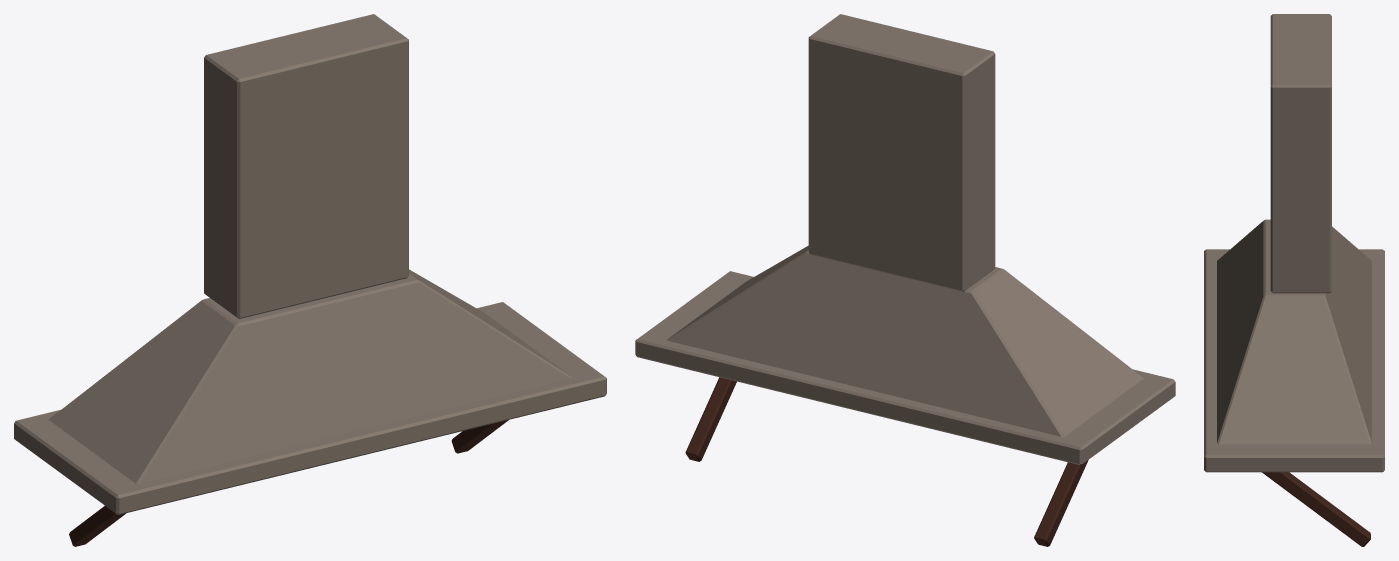
Rendered from kitchen_hood.glb.
3 views of the same model, side by side, from view 1: azimuth 30°, elevation 25°; view 2: azimuth 150°, elevation 25°; view 3: azimuth 270°, elevation 25° (orthographic). The views are drawn at different scales.
Visible parts, largest first — view 1: Canopy, Flue, Rim, Bracket, Bracket_001; view 2: Canopy, Flue, Rim, Bracket, Bracket_001; view 3: Canopy, Flue, Rim, Bracket_001.
Part boxes in pixels (left/top/right/bottom): Canopy: left=49, top=269, right=571, bottom=483; Flue: left=204, top=14, right=408, bottom=318; Rim: left=14, top=302, right=606, bottom=514; Bracket: left=69, top=506, right=126, bottom=546; Bracket_001: left=451, top=420, right=508, bottom=453; Canopy: left=667, top=245, right=1143, bottom=436; Flue: left=808, top=14, right=995, bottom=291; Rim: left=635, top=271, right=1175, bottom=465; Bracket: left=1034, top=460, right=1088, bottom=546; Bracket_001: left=685, top=377, right=736, bottom=461; Canopy: left=1217, top=219, right=1371, bottom=444; Flue: left=1270, top=14, right=1331, bottom=293; Rim: left=1204, top=249, right=1384, bottom=472; Bracket_001: left=1262, top=472, right=1370, bottom=546.
Size of the model in its own units: 2.31 by 2.15 by 0.85.
